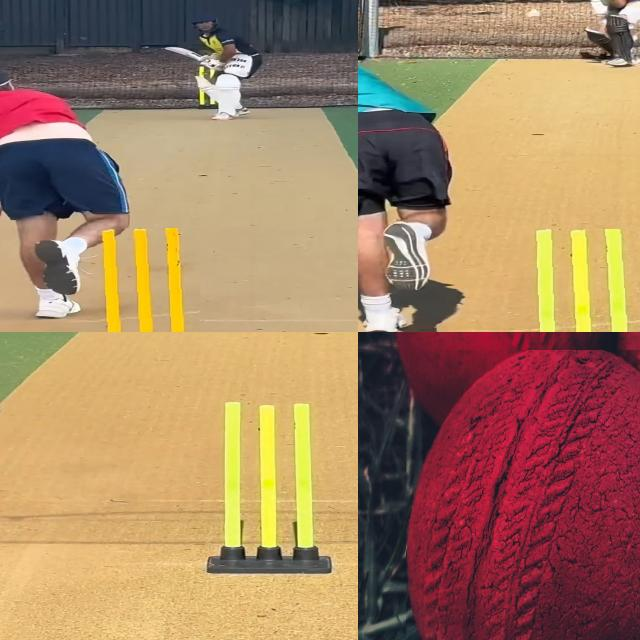Cricket ball: (406, 350, 640, 640), (525, 9, 543, 20)
Stumps: (515, 228, 640, 332), (90, 227, 199, 332)
